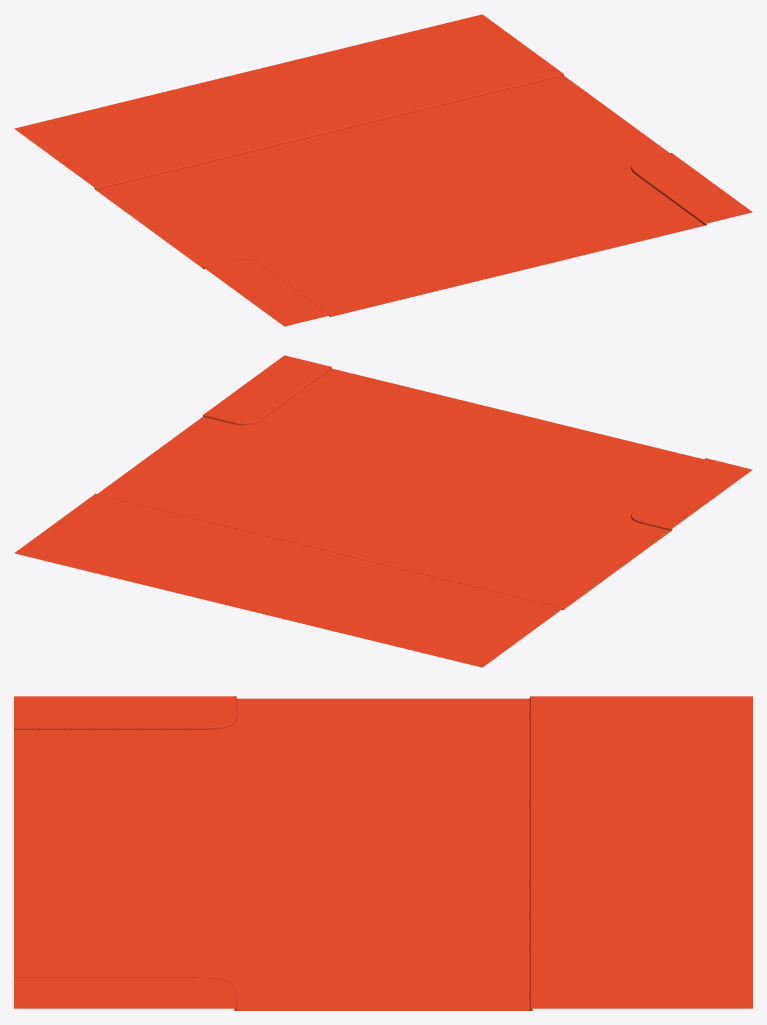
The model's file is SM_FreewayToMainroad_T_30x30_City.fbx.
3 views of the same model, one above another, from view 1: azimuth 30°, elevation 25°; view 2: azimuth 150°, elevation 25°; view 3: azimuth 270°, elevation 25° (orthographic). The views are drawn at different scales.
Visible parts, largest first — view 1: SM_FreewayToMainroad_T_30x30_City; view 2: SM_FreewayToMainroad_T_30x30_City; view 3: SM_FreewayToMainroad_T_30x30_City.
Boxes of the visible parts, <box> form: SM_FreewayToMainroad_T_30x30_City: <box>14,14,752,326</box>; SM_FreewayToMainroad_T_30x30_City: <box>14,355,752,667</box>; SM_FreewayToMainroad_T_30x30_City: <box>14,696,752,1010</box>.
Size of the model in its own units: 30 by 0.1084 by 30.
